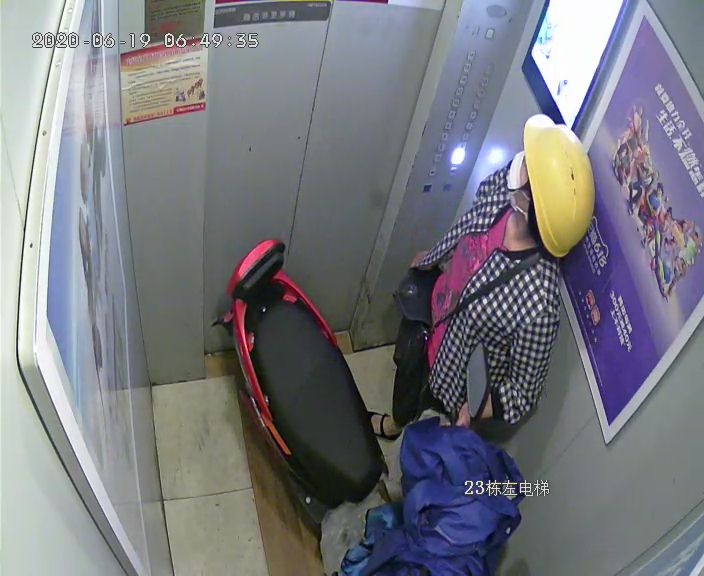Electric-bicycle: (227, 244, 484, 569)
